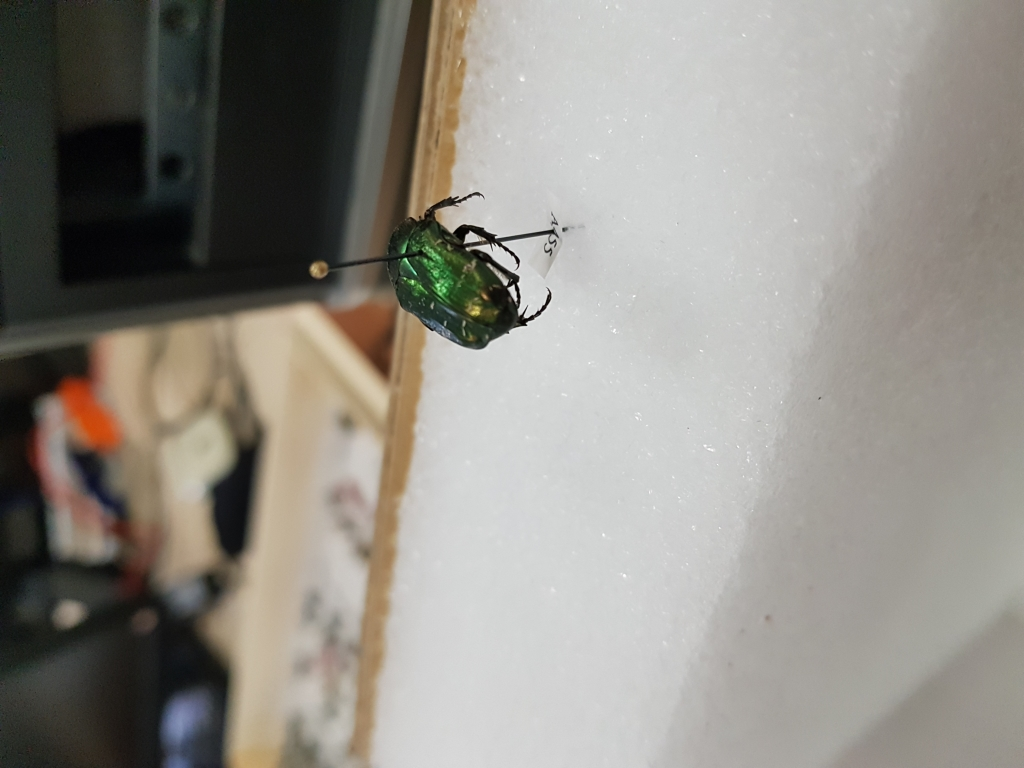Cetonia_kemali: (375, 184, 556, 359)
